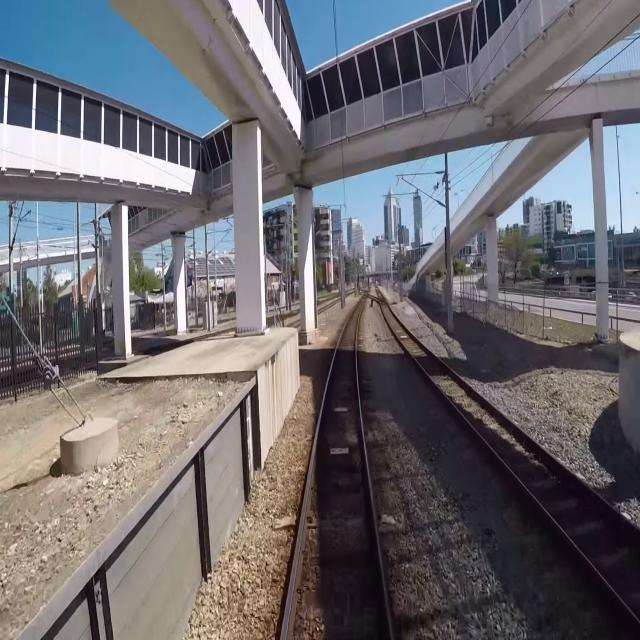rail-track: (381, 301, 640, 616), (283, 296, 389, 639)
